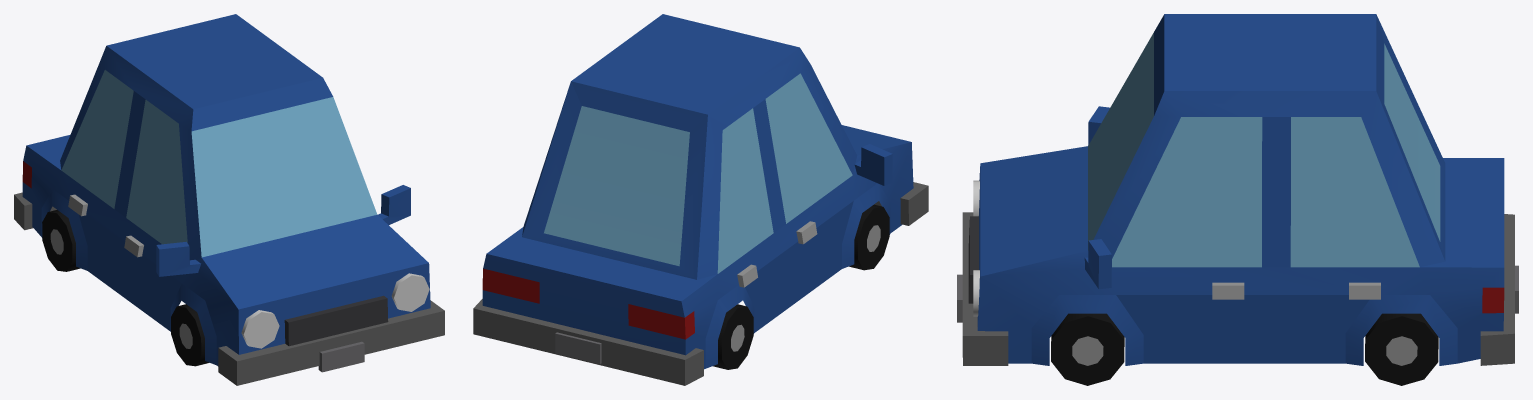
The model's file is Car_03_blue.fbx.
3 views of the same model, side by side, from view 1: azimuth 30°, elevation 25°; view 2: azimuth 150°, elevation 25°; view 3: azimuth 270°, elevation 25° (orthographic). The views are drawn at different scales.
Parts seen in each view (by area): view 1: Car_03_blue; view 2: Car_03_blue; view 3: Car_03_blue.
Boxes of the visible parts, left/top/right/bottom form: Car_03_blue: left=14, top=14, right=444, bottom=385; Car_03_blue: left=473, top=14, right=928, bottom=385; Car_03_blue: left=957, top=14, right=1518, bottom=385.
Bounding box in the file's own units: 57.9 × 49.04 × 91.82.
